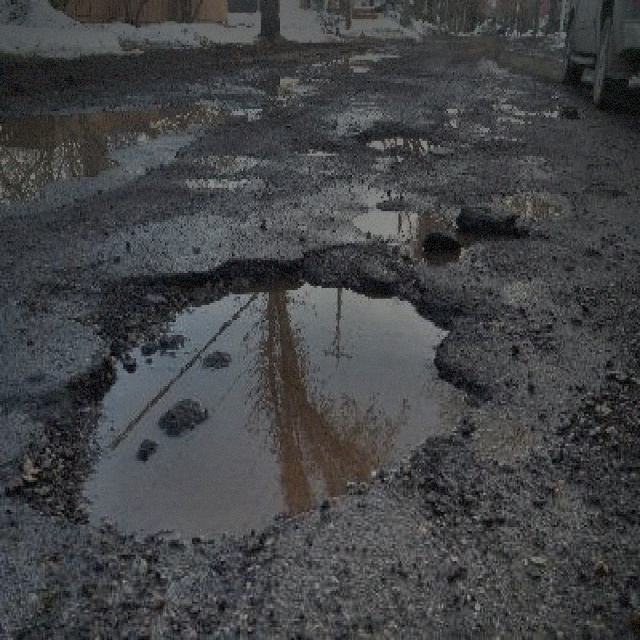pothole: (29, 247, 486, 540), (360, 124, 434, 156), (501, 188, 574, 218), (352, 202, 418, 235)
